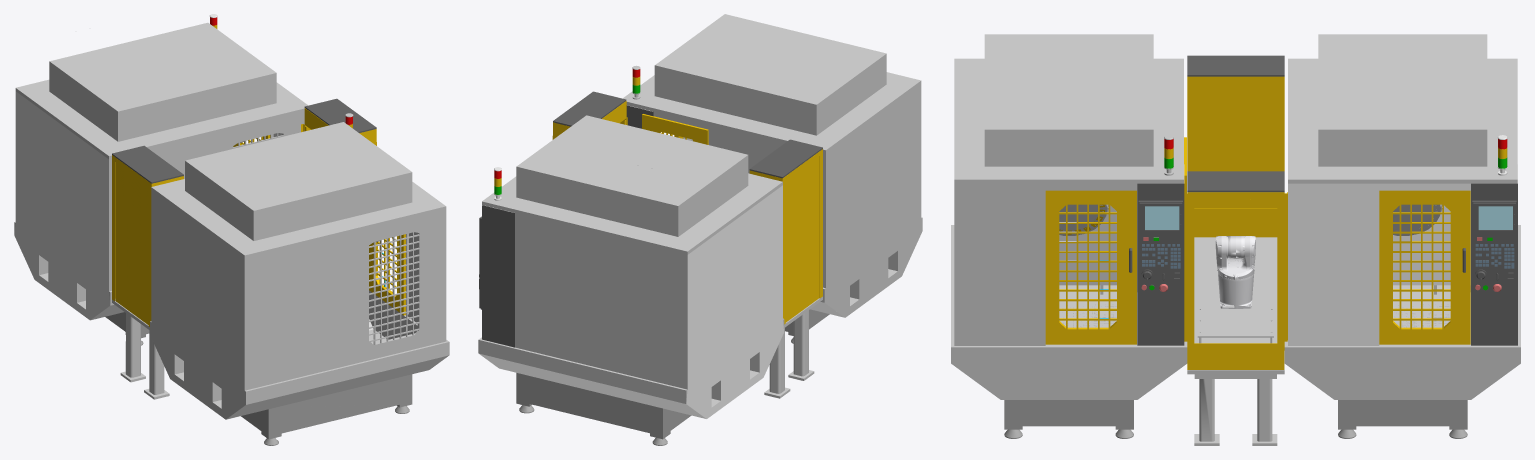
File: cnc.glb
3 renders of one model, left to right at view 1: azimuth 30°, elevation 25°; view 2: azimuth 150°, elevation 25°; view 3: azimuth 270°, elevation 25°, orthographic. The views are drawn at different scales.
Parts seen in each view (by area): view 1: 内部; view 2: 内部; view 3: 内部.
Boxes of the visible parts, box(x1,y1,x2,y2) form: 内部: box(14, 14, 449, 445); 内部: box(478, 14, 922, 445); 内部: box(951, 34, 1520, 445).
Bounding box in the file's own units: 1.27 × 1.47 × 2.24.
